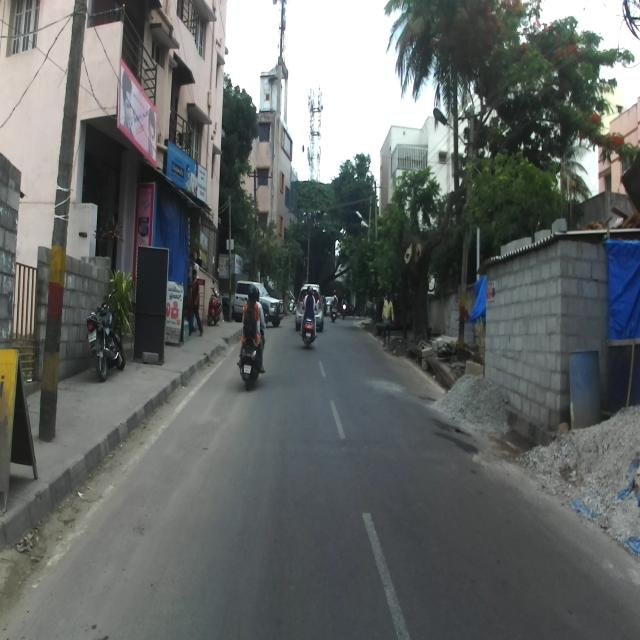electric pole ahead at: (41, 1, 102, 458)
motorcycle ahead at: (89, 291, 126, 386)
